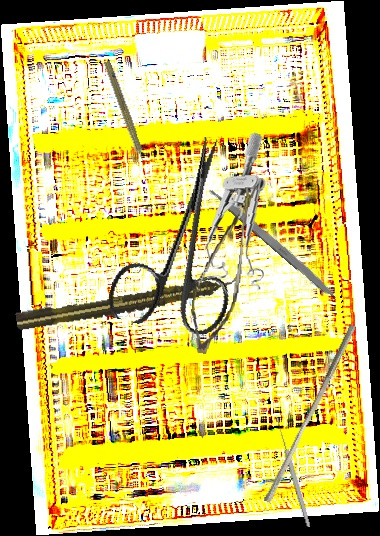Handpiece: (14, 272, 241, 333), (99, 59, 151, 172)
Iris Scissors: (104, 123, 266, 344)
Micro Scissor: (187, 178, 257, 358)
Pusher: (263, 320, 357, 507)
Scalpel Handle: (206, 183, 341, 302)
Speculum: (193, 131, 277, 296)
Surgical Spoon: (274, 416, 312, 528)
